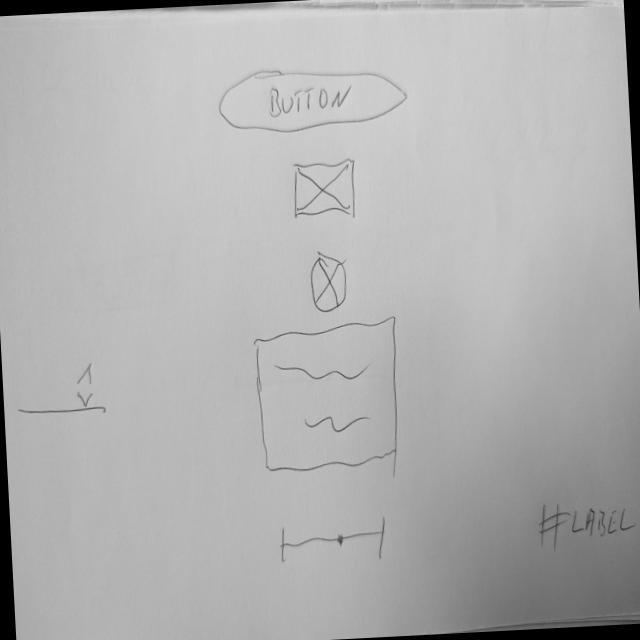button: (218, 61, 414, 138)
image: (290, 156, 360, 222), (309, 253, 350, 319)
label: (535, 496, 640, 556)
number-input: (18, 359, 110, 421)
slider: (276, 514, 393, 567)
textarea: (253, 315, 407, 479)
